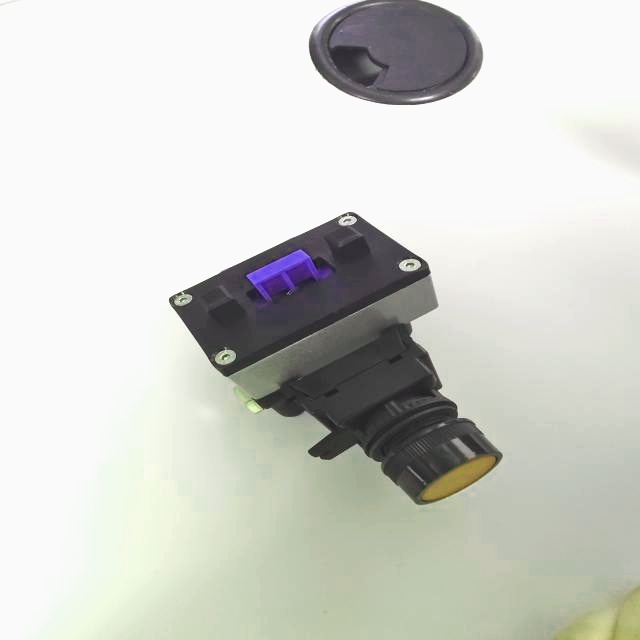push button: (168, 210, 504, 506)
